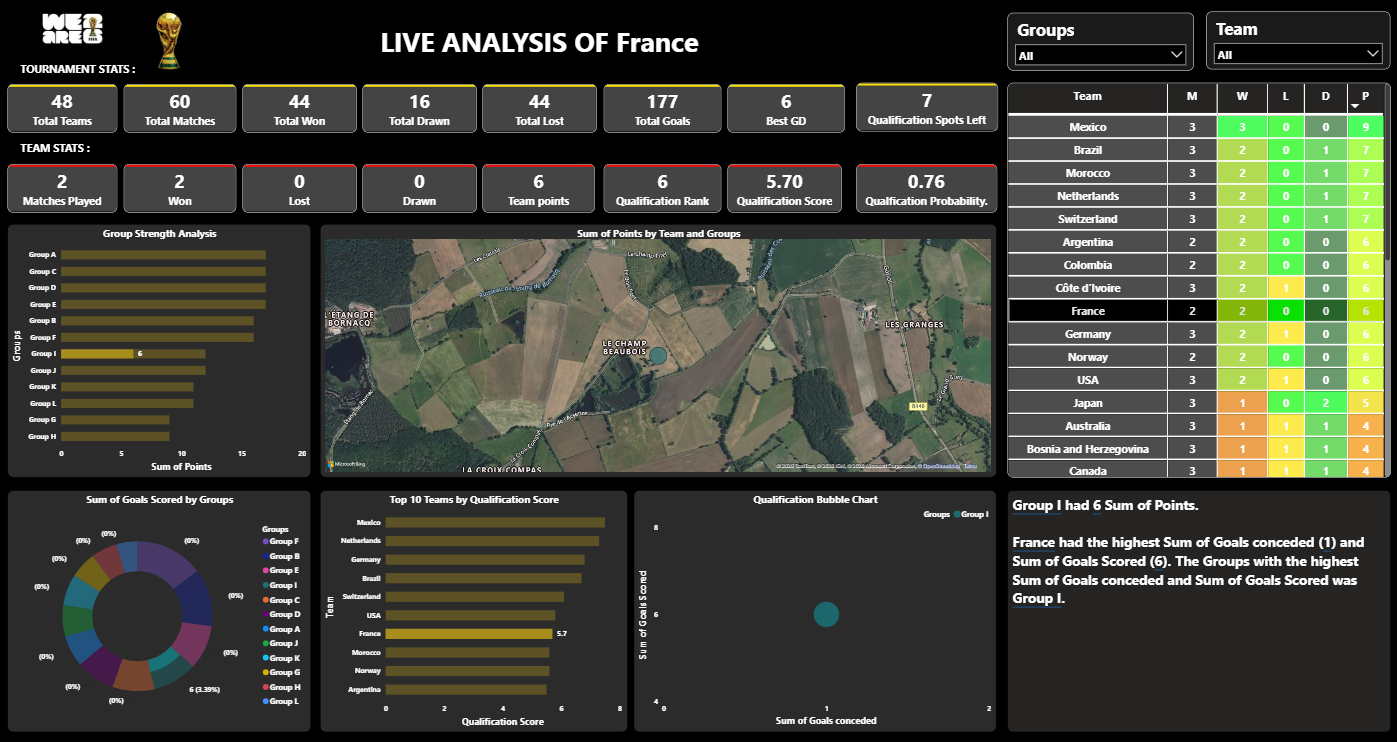

This screenshot's page, from the dashboard's own definition file:
{"tool":"powerbi","page":{"name":"Top 32 qualfiers","canvas":[2440,1300],"ordinal":0},"visuals":[{"type":"image","box":[248.9,13.5,91.9,125.6],"z":0},{"type":"image","box":[0,0,248.9,103.1],"z":1000},{"type":"slicer","fields":{"Values":["FIFA 2026 live.Groups"]},"box":[1755.6,24.7,325.1,100.9],"z":2000},{"type":"slicer","fields":{"Values":["FIFA 2026 live.Team"]},"box":[2103.1,22.4,320.6,100.9],"z":3000},{"type":"textbox","box":[30.2,104.1,220.2,43.7],"z":4000},{"type":"cardVisual","fields":{"Data":["Measure Table Tournament Stats.Total Matches"]},"box":[215.7,147.8,196,84.5],"z":5000},{"type":"cardVisual","fields":{"Data":["Measure Table Tournament Stats.Total Won"]},"box":[422.3,147.8,199.1,84.5],"z":6000},{"type":"cardVisual","fields":{"Data":["Measure Table Tournament Stats.Total Lost"]},"box":[841.5,147.8,199.1,84.5],"z":7000},{"type":"cardVisual","fields":{"Data":["Measure Table Tournament Stats.Total Draws"]},"box":[631.9,147.8,199.1,84.5],"z":8000},{"type":"cardVisual","fields":{"Data":["Measure Table Tournament Stats.Total Goals"]},"box":[1051.1,147.8,205.1,84.5],"z":9000},{"type":"cardVisual","fields":{"Data":["Measure Table Tournament Stats.Total Teams"]},"box":[13.6,147.8,191.5,84.5],"z":10000},{"type":"cardVisual","fields":{"Data":["Measure Table Tournament Stats.Best GD"]},"box":[1268.3,147.8,205.1,84.5],"z":11000},{"type":"cardVisual","fields":{"Data":["Measure Table Tournament Stats.Qualification Spots Left"]},"box":[1492,146.8,247.3,84.5],"z":12000},{"type":"textbox","box":[30.2,242.8,220.2,43.7],"z":13000},{"type":"cardVisual","fields":{"Data":["Measure Table for team.Matches Played"]},"box":[13.6,286.5,191.5,84.5],"z":14000},{"type":"cardVisual","fields":{"Data":["Measure Table for team.Won"]},"box":[215.7,286.5,196,84.5],"z":15000},{"type":"cardVisual","fields":{"Data":["Measure Table for team.Lost"]},"box":[422.3,286.5,199.1,84.5],"z":16000},{"type":"cardVisual","fields":{"Data":["Measure Table for team.Drawn"]},"box":[631.9,286.5,199.1,84.5],"z":17000},{"type":"cardVisual","fields":{"Data":["Measure Table for team.Qualification Score"]},"box":[1268.3,286.5,199.1,84.5],"z":18000},{"type":"cardVisual","fields":{"Data":["Measure Table Tournament Stats.Selected Team Probability"]},"box":[1493,286.5,245.8,84.5],"z":19000},{"type":"cardVisual","fields":{"Data":["Measure Table Tournament Stats.Qualification Rank"]},"box":[1051.6,287.5,205.1,84.5],"z":20000},{"type":"cardVisual","fields":{"Data":["Measure Table Tournament Stats.Team points"]},"box":[841.5,286.5,196,84.5],"z":21000},{"type":"clusteredBarChart","title":"Group Strength Analysis","fields":{"Category":["FIFA 2026 live.Groups"],"Y":["Sum(FIFA 2026 live.Points)"]},"box":[13.5,392.4,529.1,441.7],"z":22000},{"type":"scatterChart","title":"Qualification Bubble Chart","fields":{"Category":["FIFA 2026 live.Team"],"Series":["FIFA 2026 live.Groups"],"Size":["Sum(FIFA 2026 live.Points)"],"X":["Sum(FIFA 2026 live.Goals conceded)"],"Y":["Sum(FIFA 2026 live.Goals Scored)"]},"box":[1105.4,856.5,632.3,421.5],"z":23000},{"type":"tableEx","fields":{"Values":["FIFA 2026 live.Team","Sum(FIFA 2026 live.Matches Played)","Sum(FIFA 2026 live.Won)","Sum(FIFA 2026 live.Lost)","Sum(FIFA 2026 live.Drawn)","Sum(FIFA 2026 live.Points)"]},"box":[1755.6,145.7,668.2,688.3],"z":24000},{"type":"clusteredBarChart","title":"Top 10 Teams by Qualification Score","fields":{"Category":["FIFA 2026 live.Team"],"Y":["Measure Table for team.Qualification Score"]},"box":[558.3,856.5,535.9,421.5],"z":25000},{"type":"map","fields":{"Category":["FIFA 2026 live.Team"],"Series":["FIFA 2026 live.Groups"],"Size":["Sum(FIFA 2026 live.Points)"]},"box":[558.3,392.4,1179.4,441.7],"z":26000},{"type":"donutChart","fields":{"Category":["FIFA 2026 live.Groups"],"Y":["Sum(FIFA 2026 live.Goals Scored)"]},"box":[13.5,856.5,529.1,421.5],"z":27000},{"type":"card","fields":{"Values":["Measure Table for team.Dashboard Title"]},"box":[479.8,22.4,921.5,103.1],"z":28000},{"type":"textbox","box":[1755.6,856.5,668.2,421.5],"z":29000}]}

Visuals, with their boxes in screenshot pixels (x1, y1, x2, y2), scaled from the page's 2440x1300 canvas onto the 1397x742 screenshot:
image: {"x1": 143, "y1": 8, "x2": 195, "y2": 79}
image: {"x1": 0, "y1": 0, "x2": 143, "y2": 59}
slicer - FIFA 2026 live.Groups: {"x1": 1005, "y1": 14, "x2": 1191, "y2": 72}
slicer - FIFA 2026 live.Team: {"x1": 1204, "y1": 13, "x2": 1388, "y2": 70}
textbox: {"x1": 17, "y1": 59, "x2": 143, "y2": 84}
cardVisual - Measure Table Tournament Stats.Total Matches: {"x1": 123, "y1": 84, "x2": 236, "y2": 133}
cardVisual - Measure Table Tournament Stats.Total Won: {"x1": 242, "y1": 84, "x2": 356, "y2": 133}
cardVisual - Measure Table Tournament Stats.Total Lost: {"x1": 482, "y1": 84, "x2": 596, "y2": 133}
cardVisual - Measure Table Tournament Stats.Total Draws: {"x1": 362, "y1": 84, "x2": 476, "y2": 133}
cardVisual - Measure Table Tournament Stats.Total Goals: {"x1": 602, "y1": 84, "x2": 719, "y2": 133}
cardVisual - Measure Table Tournament Stats.Total Teams: {"x1": 8, "y1": 84, "x2": 117, "y2": 133}
cardVisual - Measure Table Tournament Stats.Best GD: {"x1": 726, "y1": 84, "x2": 844, "y2": 133}
cardVisual - Measure Table Tournament Stats.Qualification Spots Left: {"x1": 854, "y1": 84, "x2": 996, "y2": 132}
textbox: {"x1": 17, "y1": 139, "x2": 143, "y2": 164}
cardVisual - Measure Table for team.Matches Played: {"x1": 8, "y1": 164, "x2": 117, "y2": 212}
cardVisual - Measure Table for team.Won: {"x1": 123, "y1": 164, "x2": 236, "y2": 212}
cardVisual - Measure Table for team.Lost: {"x1": 242, "y1": 164, "x2": 356, "y2": 212}
cardVisual - Measure Table for team.Drawn: {"x1": 362, "y1": 164, "x2": 476, "y2": 212}
cardVisual - Measure Table for team.Qualification Score: {"x1": 726, "y1": 164, "x2": 840, "y2": 212}
cardVisual - Measure Table Tournament Stats.Selected Team Probability: {"x1": 855, "y1": 164, "x2": 996, "y2": 212}
cardVisual - Measure Table Tournament Stats.Qualification Rank: {"x1": 602, "y1": 164, "x2": 720, "y2": 212}
cardVisual - Measure Table Tournament Stats.Team points: {"x1": 482, "y1": 164, "x2": 594, "y2": 212}
"Group Strength Analysis" clusteredBarChart: {"x1": 8, "y1": 224, "x2": 311, "y2": 476}
"Qualification Bubble Chart" scatterChart: {"x1": 633, "y1": 489, "x2": 995, "y2": 729}
tableEx - FIFA 2026 live.Team x Sum(FIFA 2026 live.Matches Played): {"x1": 1005, "y1": 83, "x2": 1388, "y2": 476}
"Top 10 Teams by Qualification Score" clusteredBarChart: {"x1": 320, "y1": 489, "x2": 626, "y2": 729}
map - FIFA 2026 live.Team x FIFA 2026 live.Groups: {"x1": 320, "y1": 224, "x2": 995, "y2": 476}
donutChart - FIFA 2026 live.Groups x Sum(FIFA 2026 live.Goals Scored): {"x1": 8, "y1": 489, "x2": 311, "y2": 729}
card - Measure Table for team.Dashboard Title: {"x1": 275, "y1": 13, "x2": 802, "y2": 72}
textbox: {"x1": 1005, "y1": 489, "x2": 1388, "y2": 729}
